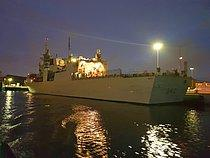MIL_Ship: (23, 36, 191, 106)
